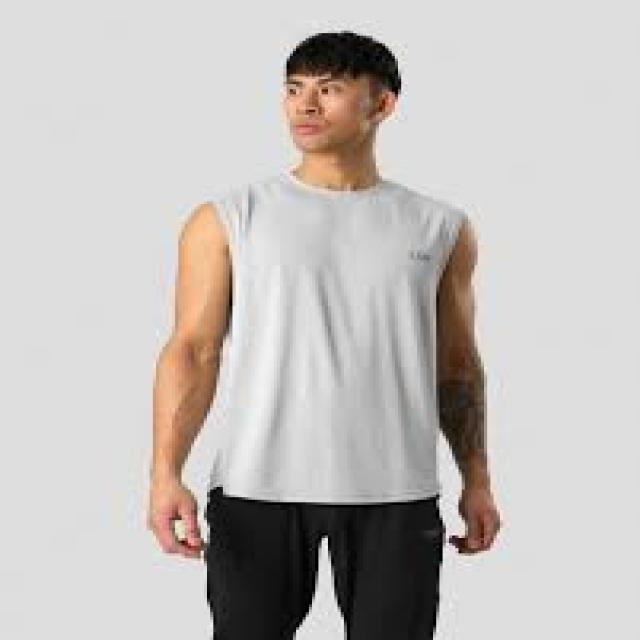no_vest: (208, 168, 468, 505)
